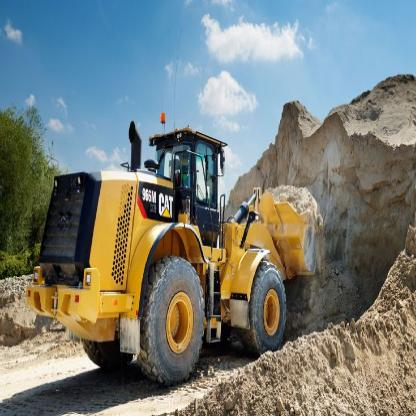bull_dozer/loader/grader: (22, 103, 329, 402)
